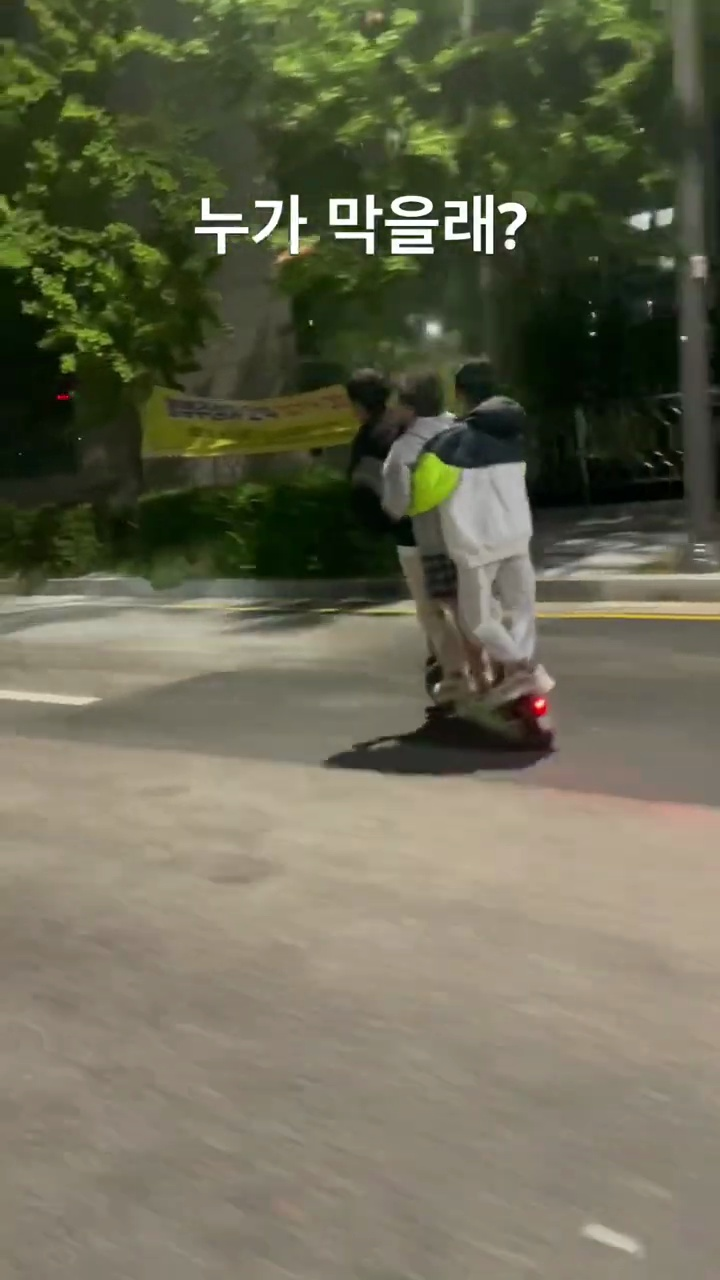multiple: (337, 355, 564, 755)
